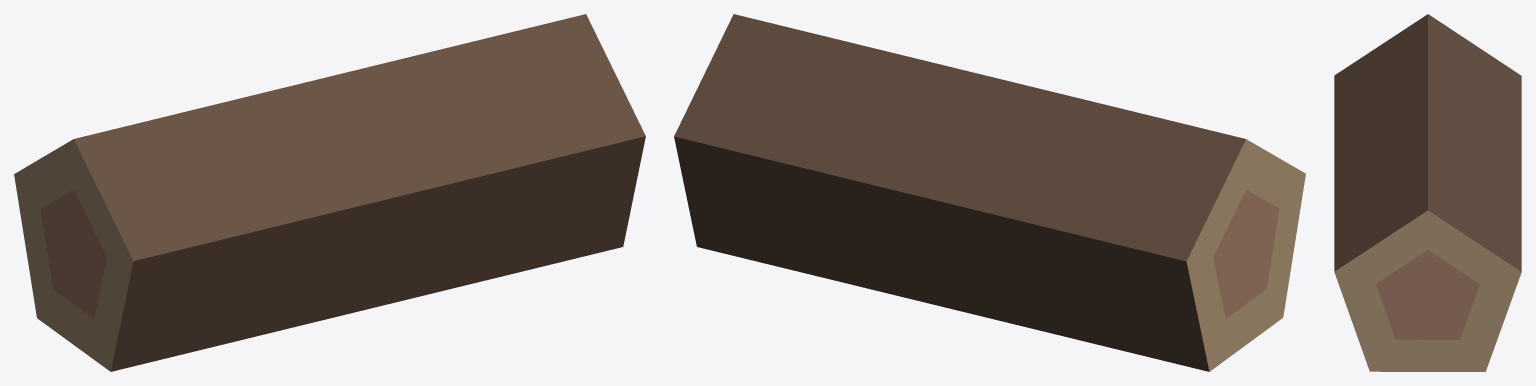
File: TB_Prop_Lumber_A.FBX
The picture shows the model from 3 angles, left to right: view 1: azimuth 30°, elevation 25°; view 2: azimuth 150°, elevation 25°; view 3: azimuth 270°, elevation 25°; orthographic projection. The views are drawn at different scales.
Visible parts, largest first — view 1: TB_Prop_Lumber_A; view 2: TB_Prop_Lumber_A; view 3: TB_Prop_Lumber_A.
Boxes of the visible parts, x1=… form: TB_Prop_Lumber_A: x1=14, y1=14, x2=645, y2=371; TB_Prop_Lumber_A: x1=674, y1=14, x2=1305, y2=371; TB_Prop_Lumber_A: x1=1334, y1=14, x2=1521, y2=371.
Bounding box in the file's own units: 1.65 × 0.6352 × 0.6675.
